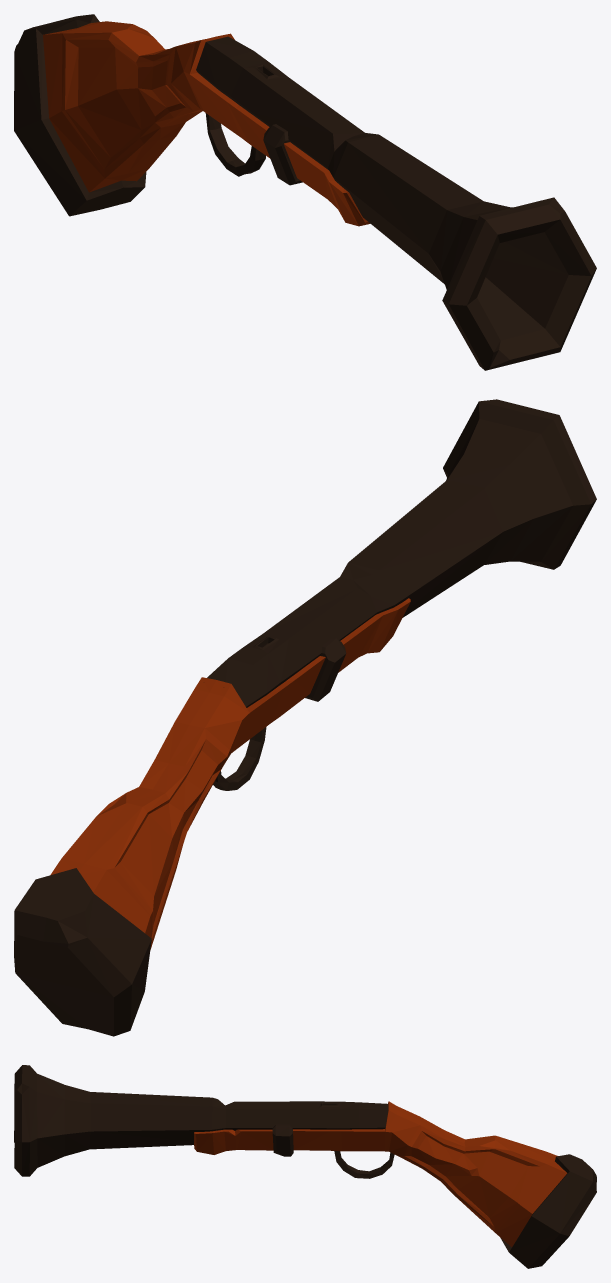
Rendered from SFFA_Pistol_001.fbx.
3 renders of one model, top to bottom at view 1: azimuth 30°, elevation 25°; view 2: azimuth 150°, elevation 25°; view 3: azimuth 270°, elevation 25°, orthographic. The views are drawn at different scales.
Visible parts, largest first — view 1: SFFA_Pistol_001; view 2: SFFA_Pistol_001; view 3: SFFA_Pistol_001.
Boxes of the visible parts, box(x1,y1,x2,y2) form: SFFA_Pistol_001: box(14, 14, 596, 370); SFFA_Pistol_001: box(14, 399, 596, 1036); SFFA_Pistol_001: box(14, 1065, 596, 1268).
Size of the model in its own units: 9.19 by 18.21 by 52.2.
